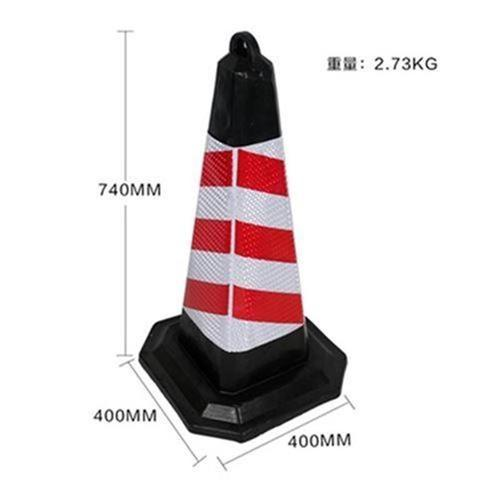cone_barrel: (148, 39, 332, 410)
